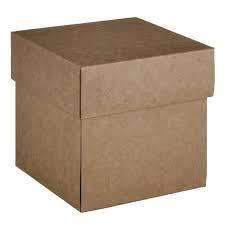box: (11, 16, 214, 213)
